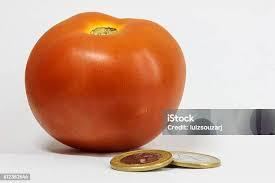Masak: (23, 7, 190, 179)
